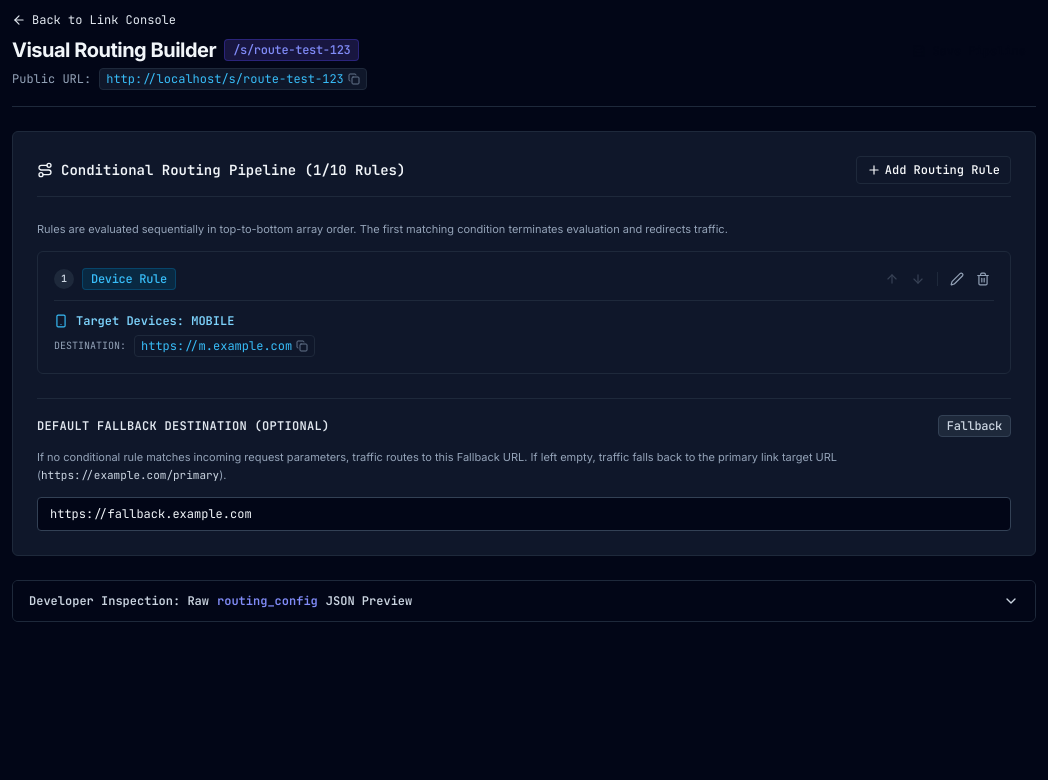
Test: RoutingBuilderPage Component Tests › allows discarding changes back to initial state
The width and height of the screenshot is (1048, 780).
Replace the text in the field showing "https://fallback.example.com" with "https://new-fallback.example.com" at (524, 514), box [37, 497, 1011, 531]
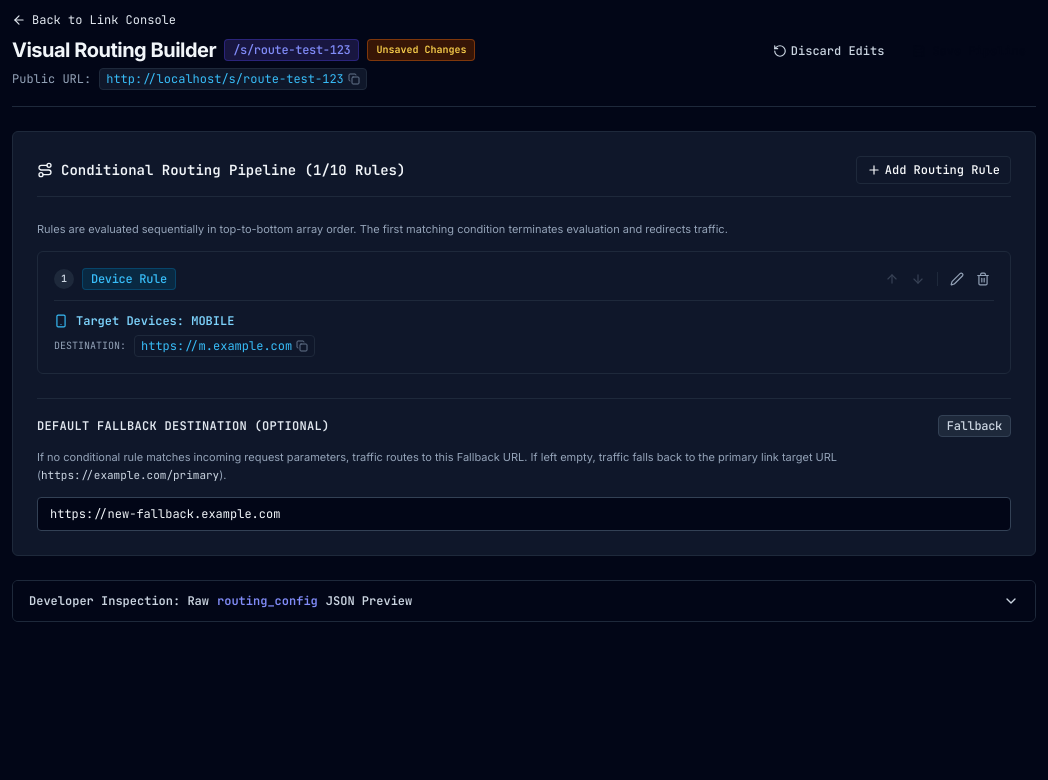
Now the text "Unsaved Changes" is shown, box [368, 39, 476, 61]
Click the button "Discard Edits".
click(829, 51)  # box [763, 37, 894, 65]
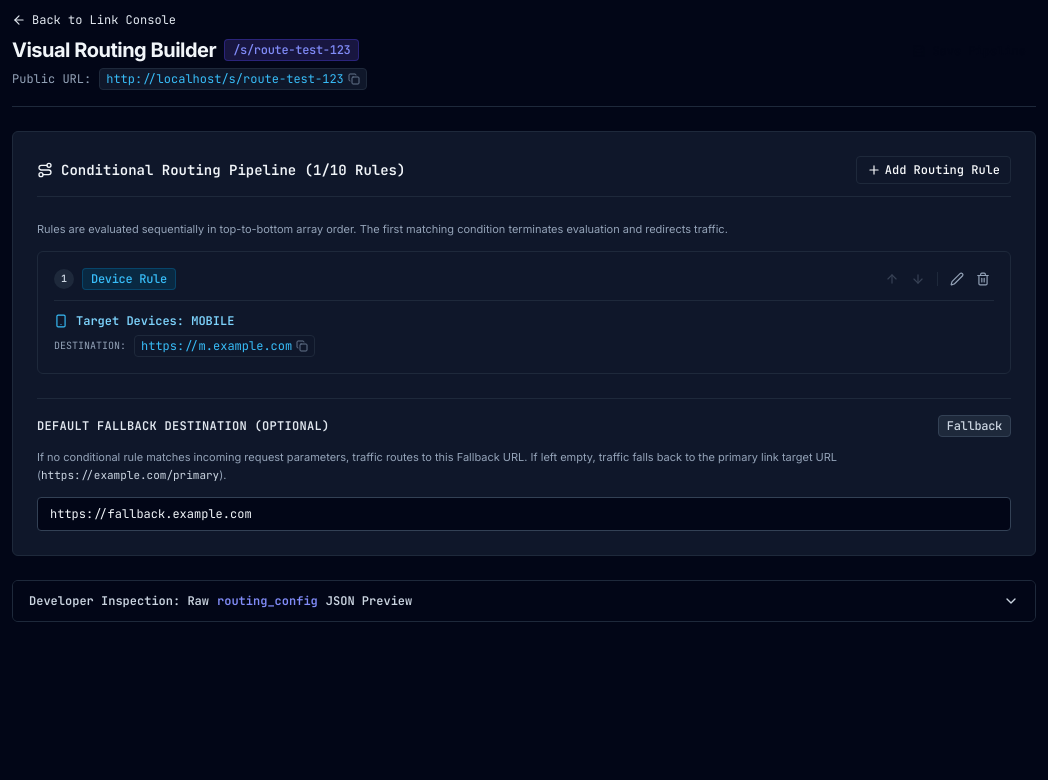
Now the text "Unsaved Changes" is gone
Now the field showing "https://fallback.example.com" is shown, box [37, 497, 1011, 531]
